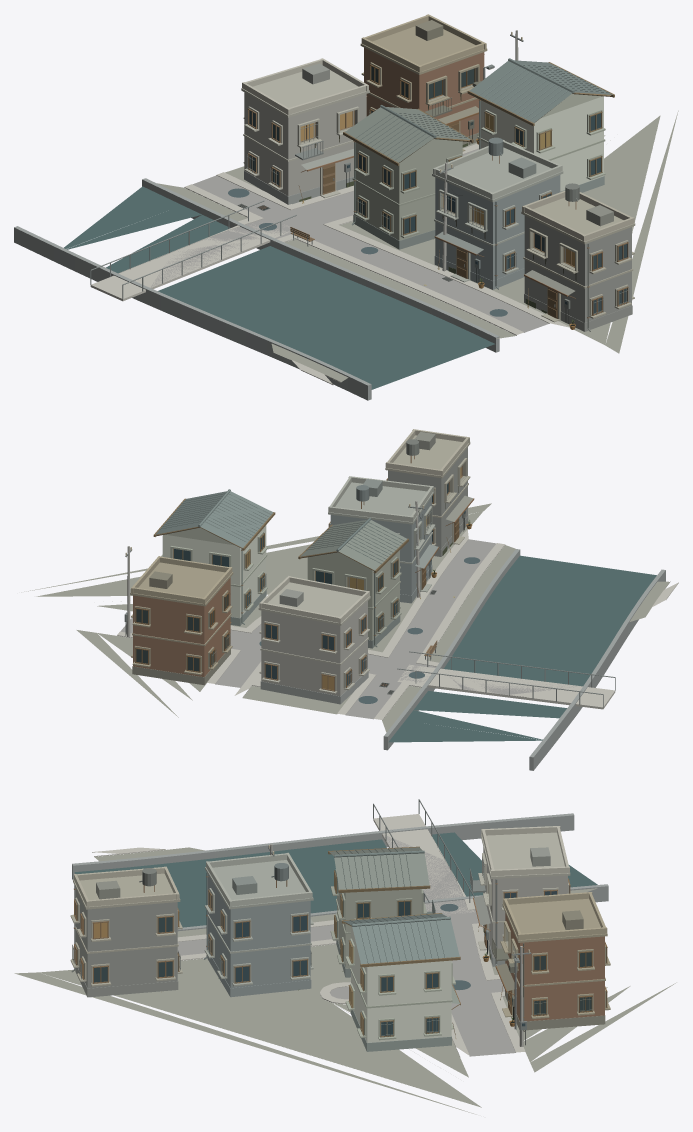
The model's file is street_8_6.glb.
3 renders of one model, top to bottom at view 1: azimuth 30°, elevation 25°; view 2: azimuth 150°, elevation 25°; view 3: azimuth 270°, elevation 25°, orthographic. The views are drawn at different scales.
Visible parts, largest first — view 1: water.012, graybrick.036, trim.037, plaster.037, ground.012, road.043, paving.024, roof_metal.037, concrete.030, wood.037, metal.037, limewash.009 (+4 smaller); view 2: water.012, trim.037, graybrick.036, ground.012, plaster.037, paving.024, road.043, concrete.030, brick.014, roof_metal.037, roof_tile.030, metal.037 (+3 smaller); view 3: graybrick.036, ground.012, trim.037, plaster.037, road.043, water.012, limewash.009, roof_metal.037, brick.014, paving.024, wood.037, roof_tile.030 (+3 smaller).
Part boxes in pixels (x1,y1,x2,y2): water.012: [64, 186, 494, 389]; graybrick.036: [14, 132, 632, 400]; trim.037: [241, 26, 635, 322]; plaster.037: [242, 14, 634, 241]; ground.012: [157, 110, 678, 382]; road.043: [150, 149, 548, 332]; paving.024: [90, 144, 569, 384]; roof_metal.037: [301, 20, 613, 295]; concrete.030: [244, 30, 518, 271]; wood.037: [247, 62, 628, 318]; metal.037: [90, 34, 629, 331]; limewash.009: [479, 96, 603, 191]; water.012: [388, 555, 656, 742]; trim.037: [130, 435, 470, 694]; graybrick.036: [132, 447, 665, 770]; ground.012: [21, 503, 669, 732]; plaster.037: [131, 429, 469, 640]; paving.024: [117, 529, 678, 720]; road.043: [120, 539, 580, 719]; concrete.030: [127, 500, 420, 696]; brick.014: [133, 577, 230, 676]; roof_metal.037: [149, 432, 473, 606]; roof_tile.030: [156, 489, 371, 551]; metal.037: [124, 439, 615, 707]; graybrick.036: [72, 813, 608, 1051]; ground.012: [14, 847, 676, 1114]; trim.037: [70, 832, 610, 1040]; plaster.037: [74, 826, 607, 968]; road.043: [177, 834, 515, 1056]; water.012: [74, 827, 597, 927]; limewash.009: [351, 926, 451, 1042]; roof_metal.037: [96, 847, 583, 1003]; brick.014: [505, 913, 604, 1021]; paving.024: [92, 814, 525, 1056]; wood.037: [74, 846, 607, 1037]; roof_tile.030: [334, 850, 459, 964].
Bounding box in the file's own units: 47.58 × 9.24 × 43.99.
